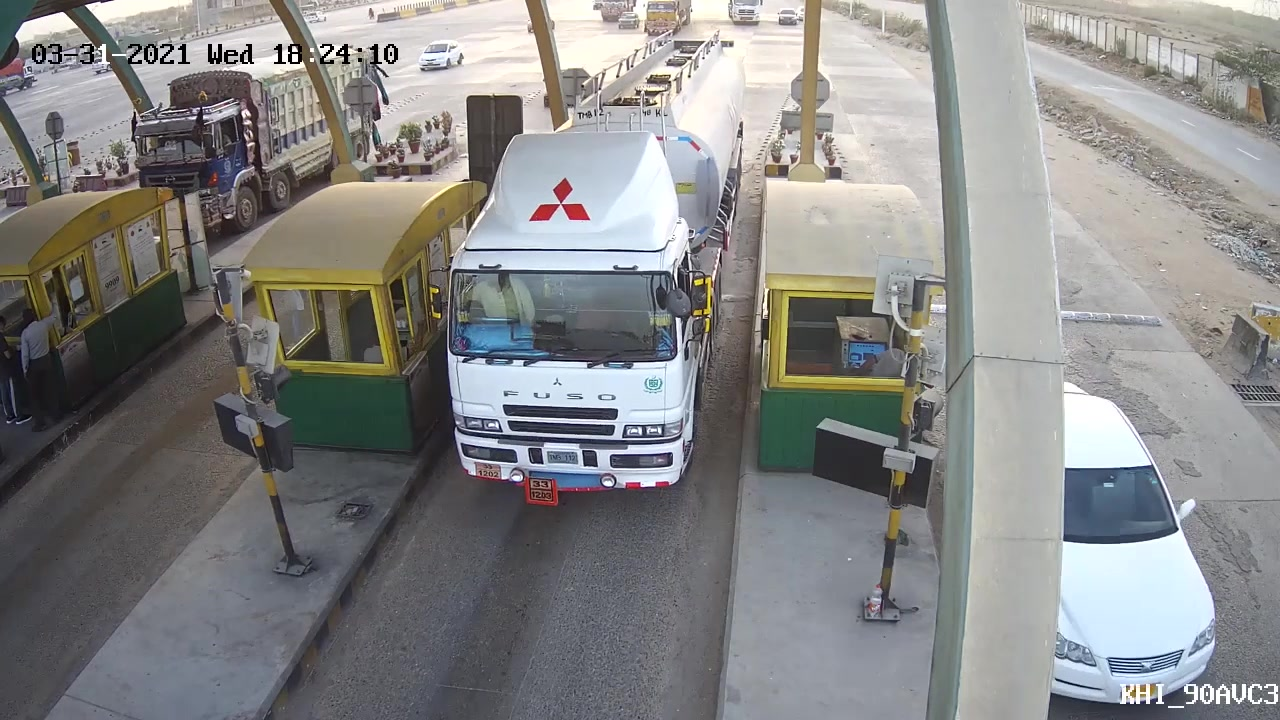F6: (427, 67, 741, 521)
